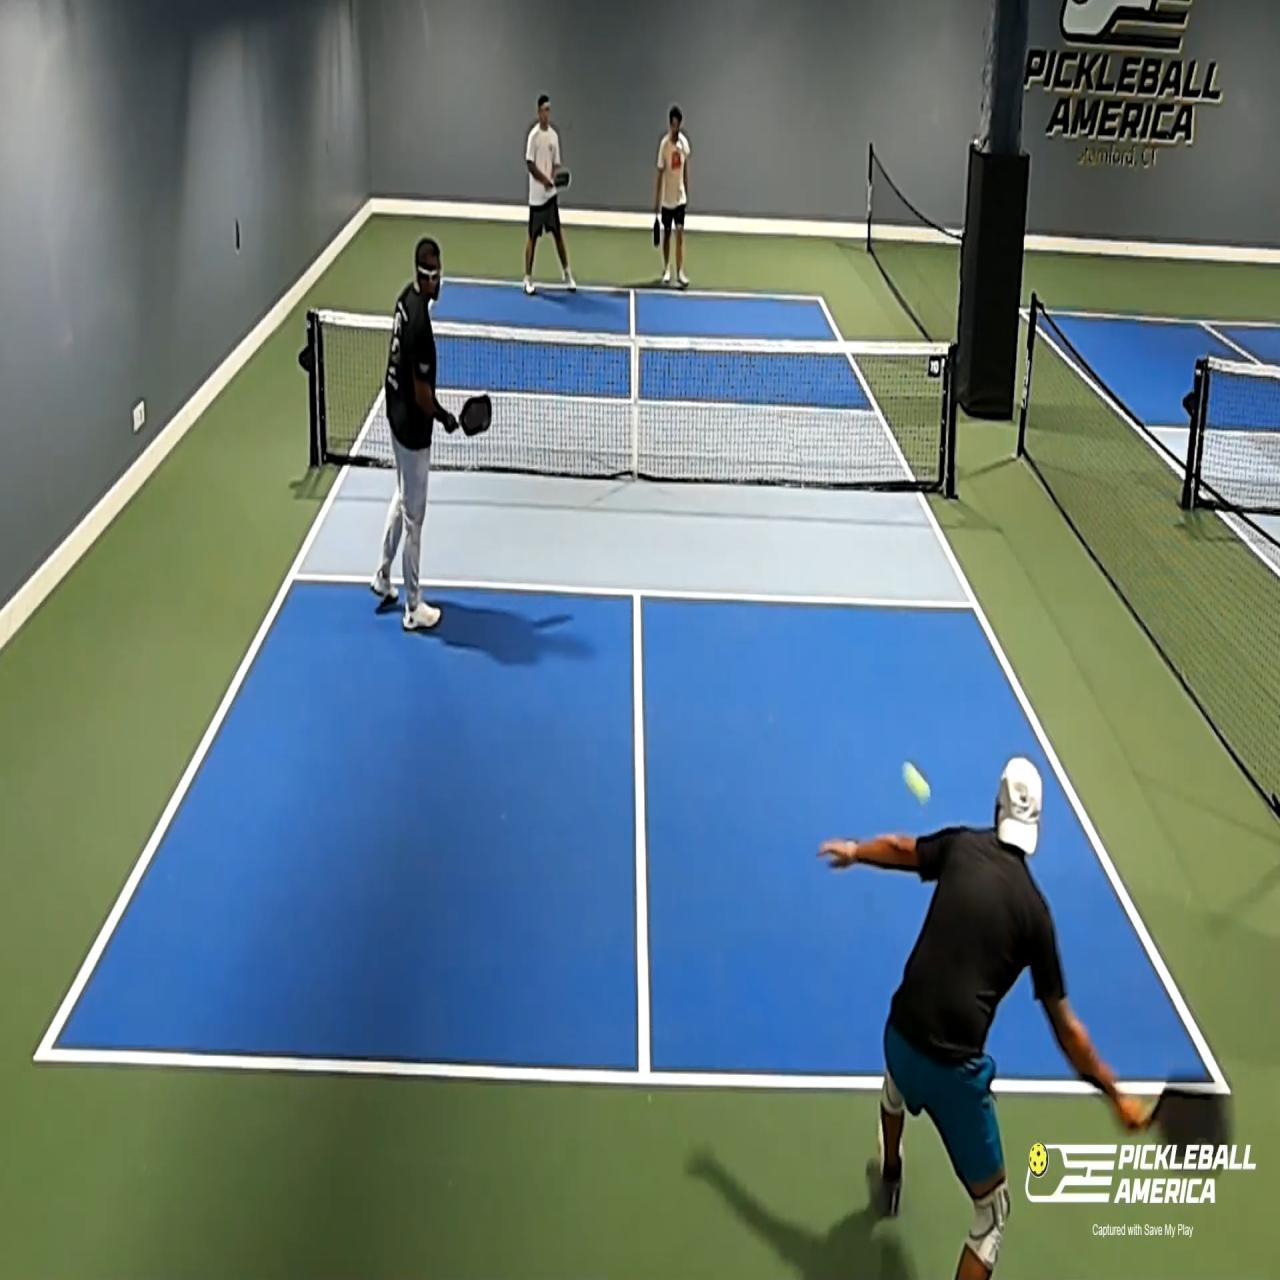Pickleball: (900, 758, 932, 805)
